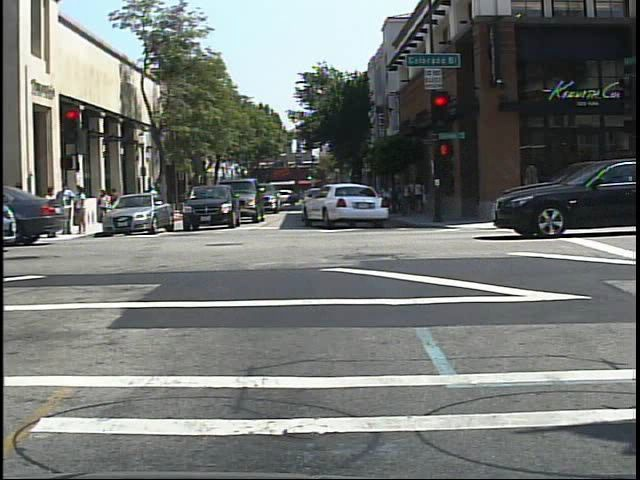person: (144, 180, 161, 213), (97, 187, 111, 227), (141, 181, 156, 213)
